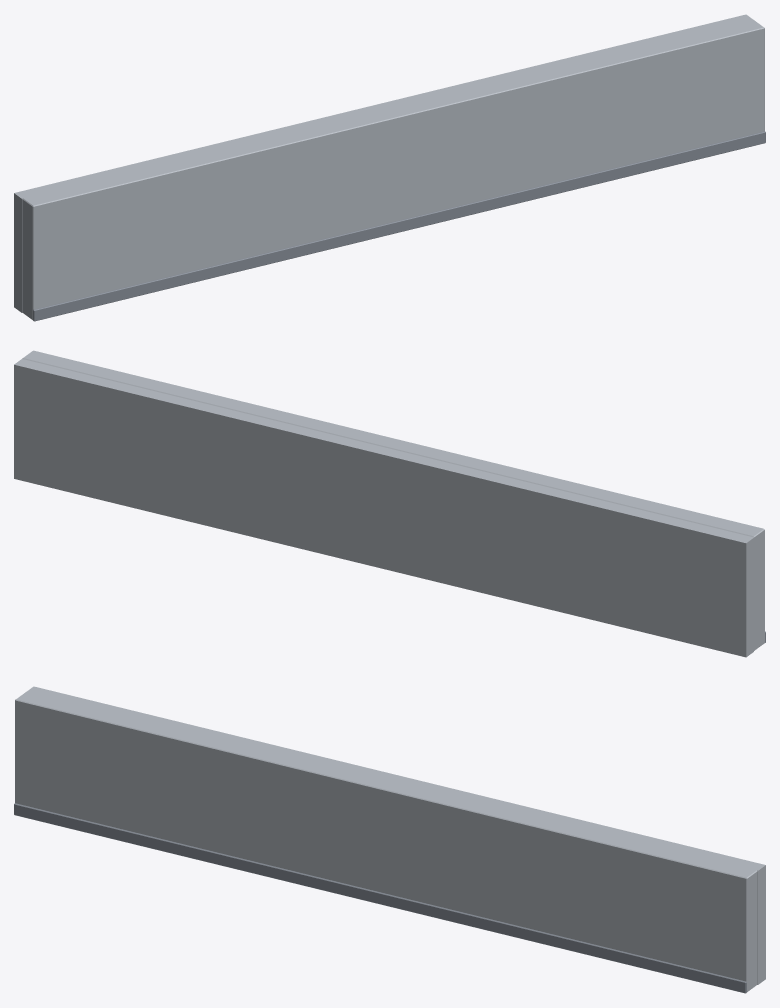
Rendered from soco_h60_4m.glb.
The picture shows the model from 3 angles, top to bottom: view 1: azimuth 30°, elevation 25°; view 2: azimuth 150°, elevation 25°; view 3: azimuth 330°, elevation 25°; orthographic projection.
Parts seen in each view (by area): view 1: soco_h60_4m; view 2: soco_h60_4m; view 3: soco_h60_4m.
Part boxes in pixels (left/top/right/bottom): soco_h60_4m: left=14, top=14, right=765, bottom=321; soco_h60_4m: left=14, top=350, right=765, bottom=657; soco_h60_4m: left=14, top=686, right=765, bottom=993.
Size of the model in its own units: 4 by 0.6 by 0.19.
1 material, 1 textured.
